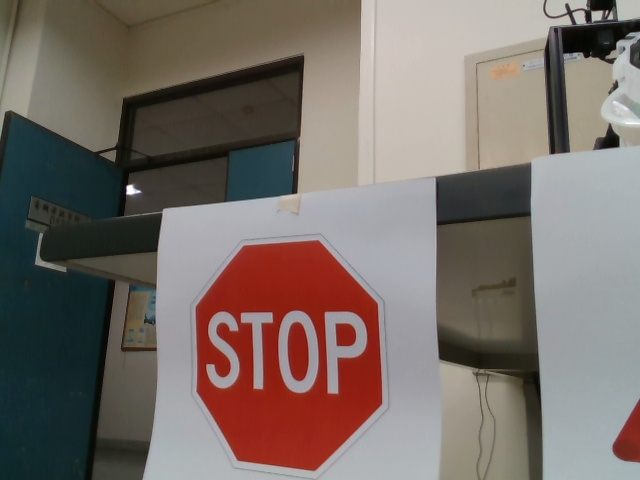stop: (184, 236, 393, 477)
